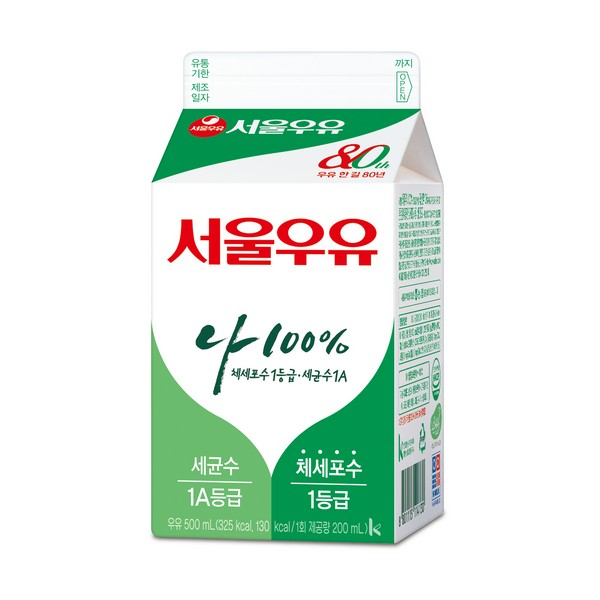milk: (149, 49, 445, 544)
